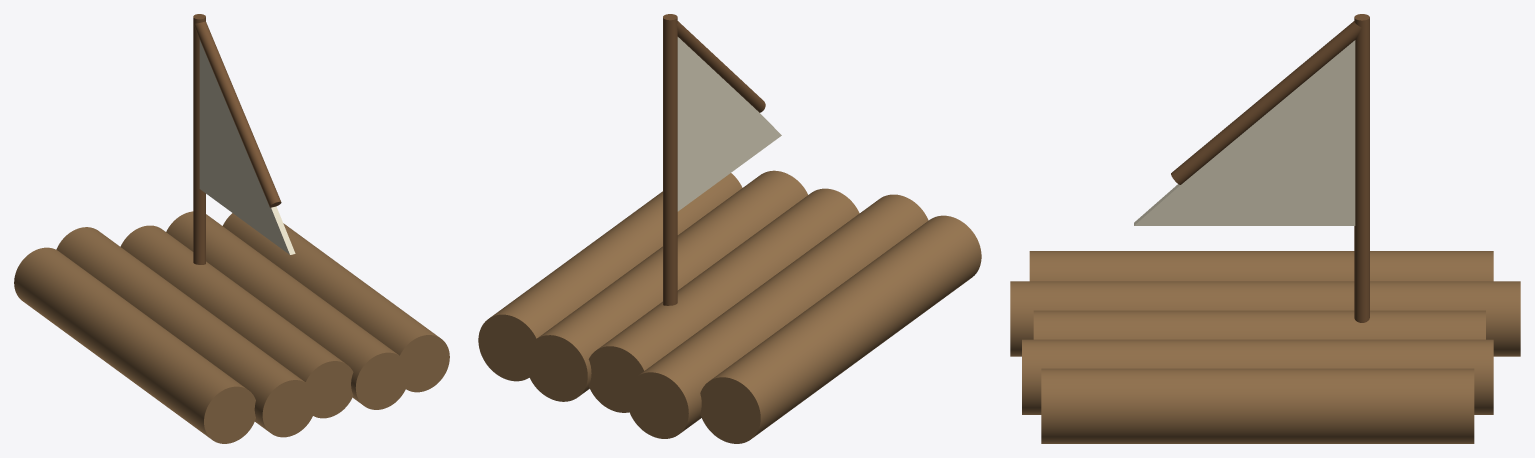
The picture shows the model from 3 angles, left to right: view 1: azimuth 30°, elevation 25°; view 2: azimuth 150°, elevation 25°; view 3: azimuth 270°, elevation 25°; orthographic projection. The views are drawn at different scales.
Parts seen in each view (by area): view 1: sailraft; view 2: sailraft; view 3: sailraft.
Part boxes in pixels (x1,y1,x2,y2): sailraft: (14, 14, 449, 443); sailraft: (478, 14, 981, 443); sailraft: (1010, 14, 1520, 443).
Bounding box in the file's own units: 2.08 × 2.39 × 3.
